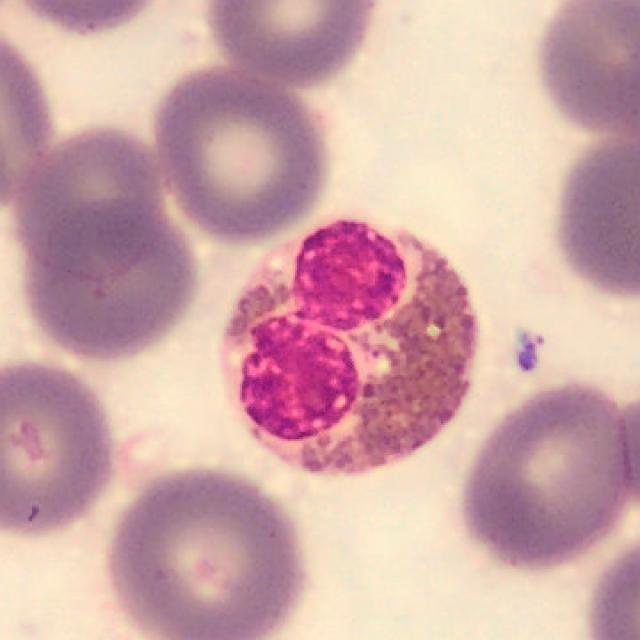Eosinofilo: (220, 215, 478, 476)
